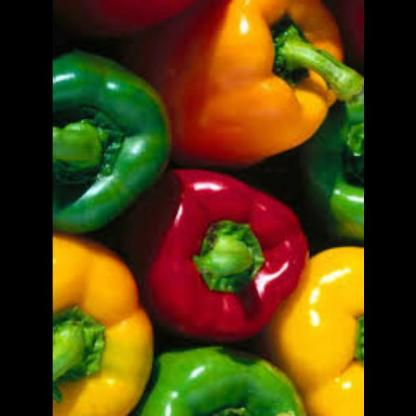bell pepper: (128, 1, 352, 170), (119, 158, 315, 348), (53, 47, 181, 236), (53, 227, 162, 416), (274, 238, 364, 416), (276, 74, 364, 247), (129, 342, 311, 416)
